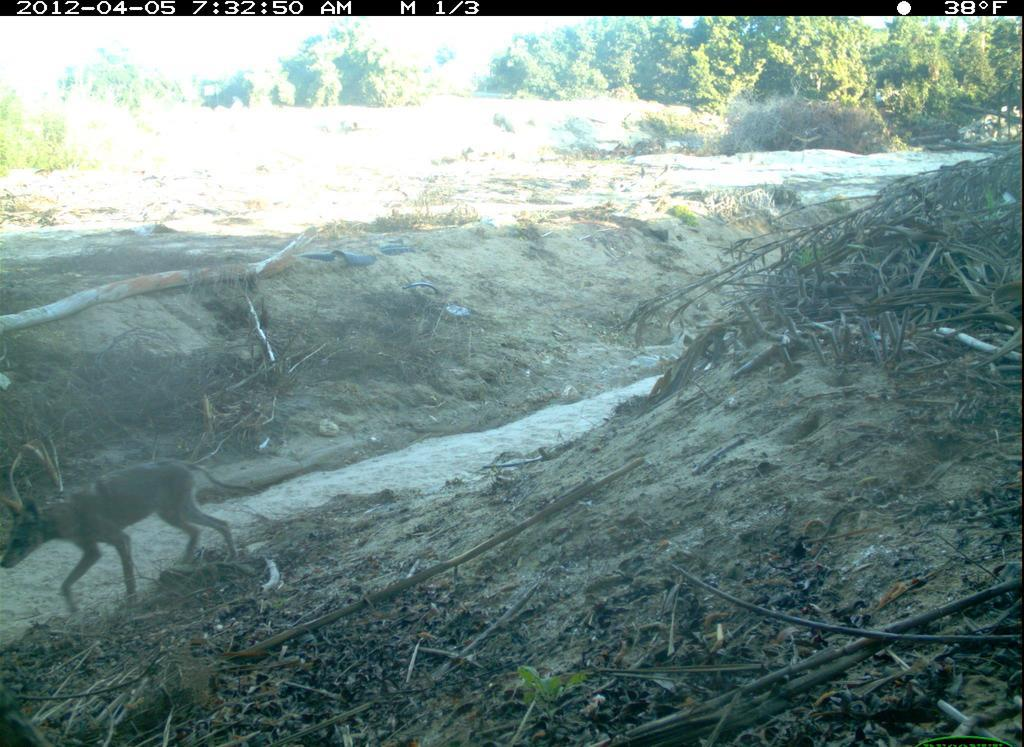coyote: (3, 446, 263, 619)
